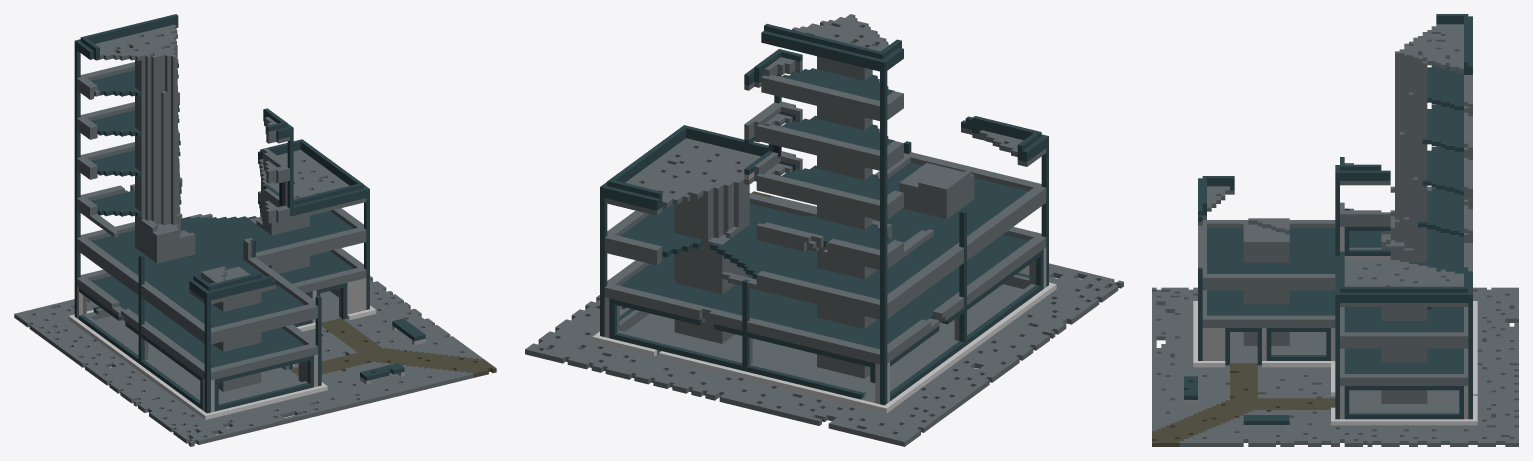
Rendered from building_big_5_destroyed.obj.
3 views of the same model, side by side, from view 1: azimuth 30°, elevation 25°; view 2: azimuth 150°, elevation 25°; view 3: azimuth 270°, elevation 25° (orthographic). The views are drawn at different scales.
Bounding box in the file's own units: 8 × 7.2 × 8.
Materials: 1 (1 with a texture image).
